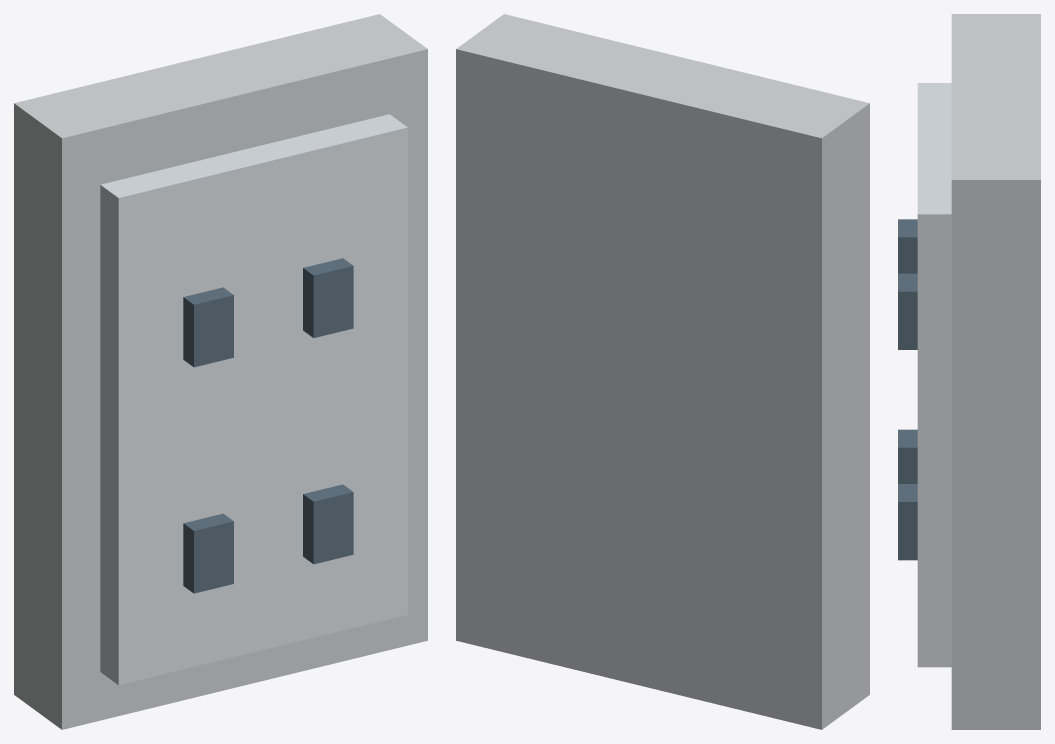
Rendered from wall-device-plate.glb.
3 renders of one model, left to right at view 1: azimuth 30°, elevation 25°; view 2: azimuth 150°, elevation 25°; view 3: azimuth 270°, elevation 25°, orthographic. The views are drawn at different scales.
Parts seen in each view (by area): view 1: wall-device-plate; view 2: wall-device-plate; view 3: wall-device-plate.
Part boxes in pixels (left/top/right/bottom): wall-device-plate: left=14, top=14, right=427, bottom=729; wall-device-plate: left=456, top=14, right=869, bottom=729; wall-device-plate: left=898, top=14, right=1040, bottom=729.
Bounding box in the file's own units: 0.11 × 0.17 × 0.04.
